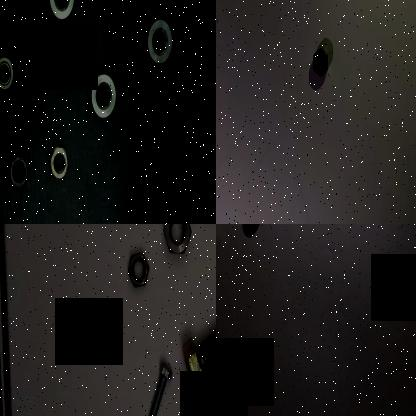Bolts: (138, 355, 173, 416)
NUTS: (141, 8, 173, 66), (84, 68, 119, 121), (122, 244, 150, 300), (6, 140, 32, 192), (46, 140, 68, 190), (158, 224, 192, 255), (47, 0, 77, 27), (310, 44, 330, 80), (0, 46, 14, 96)
